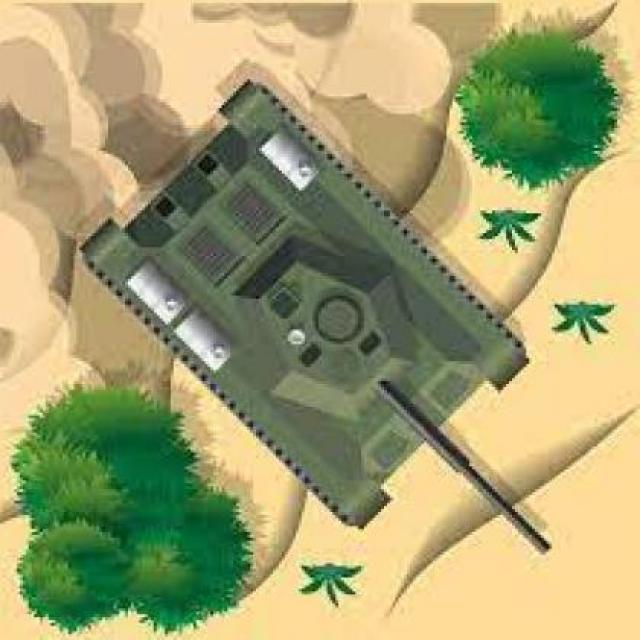tank: (77, 74, 555, 554)
